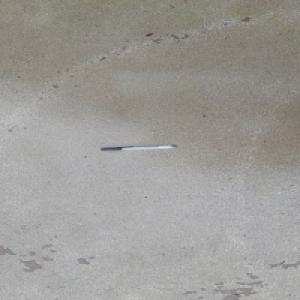Pen: (99, 144, 178, 151)
